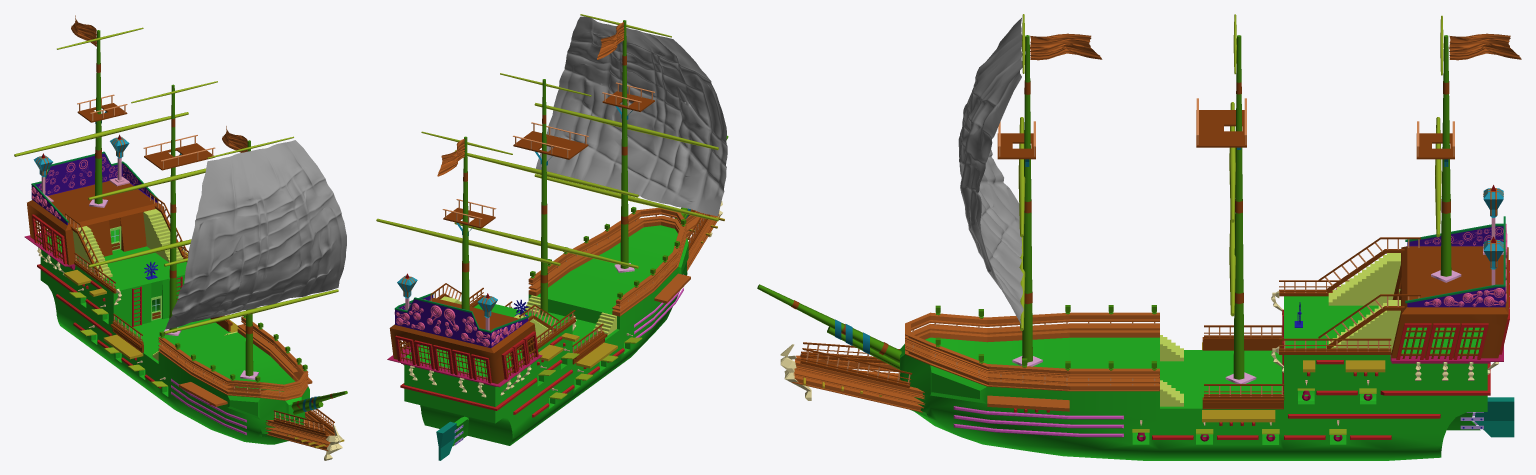
Rendered from pirate ship.obj.
3 renders of one model, left to right at view 1: azimuth 30°, elevation 25°; view 2: azimuth 150°, elevation 25°; view 3: azimuth 270°, elevation 25°, orthographic. The views are drawn at different scales.
Visible parts, largest first — view 1: Plane138, Plane001, Plane014, Plane064, Cylinder003, Plane033, Box068, Plane118, Box134, Cylinder023, Cylinder013, Plane128 (+16 smaller); view 2: Plane138, Plane001, Cylinder003, Plane014, Plane064, Plane033, Box032, Plane118, Box024, Box134, Plane089, Box005 (+16 smaller); view 3: Plane001, Plane138, Plane064, Plane014, Cylinder003, Plane118, Box068, Plane128, Plane033, Plane089, Plane120, Box083 (+19 smaller).
Part boxes in pixels (<box>): Plane138: <box>165,140,346,329</box>; Plane001: <box>40,229,309,444</box>; Plane014: <box>27,181,164,265</box>; Plane064: <box>158,316,308,400</box>; Cylinder003: <box>94,30,253,376</box>; Plane033: <box>31,153,157,224</box>; Box068: <box>72,209,183,278</box>; Plane118: <box>158,320,308,395</box>; Box134: <box>144,143,214,170</box>; Cylinder023: <box>164,289,338,333</box>; Cylinder013: <box>14,112,188,156</box>; Plane128: <box>171,378,246,435</box>; Plane138: <box>536,16,727,216</box>; Plane001: <box>404,225,688,446</box>; Cylinder003: <box>461,20,628,316</box>; Plane014: <box>389,297,535,383</box>; Plane064: <box>528,207,686,316</box>; Plane033: <box>395,295,528,347</box>; Box032: <box>395,331,538,383</box>; Plane118: <box>528,212,686,310</box>; Box024: <box>398,337,535,381</box>; Box134: <box>513,131,588,159</box>; Plane089: <box>400,336,586,414</box>; Box005: <box>387,344,542,387</box>; Plane001: <box>900,296,1487,460</box>; Plane138: <box>958,18,1023,325</box>; Plane064: <box>905,312,1159,391</box>; Plane014: <box>1391,246,1508,358</box>; Cylinder003: <box>1022,35,1451,379</box>; Plane118: <box>905,319,1159,383</box>; Box068: <box>1328,253,1400,352</box>; Plane128: <box>953,406,1123,437</box>; Plane033: <box>1407,226,1505,307</box>; Plane089: <box>1014,360,1490,425</box>; Plane120: <box>792,360,924,412</box>; Box083: <box>1202,337,1283,409</box>.
Size of the model in its own units: 56.19 by 89.19 by 154.
